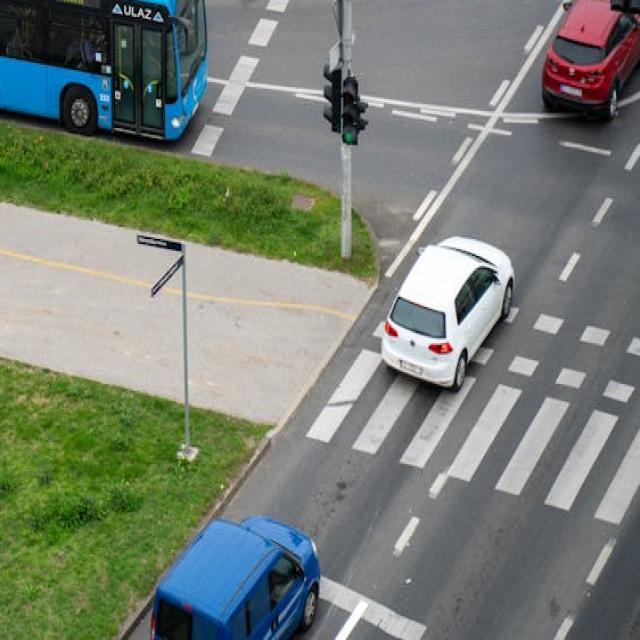bus: (0, 0, 210, 147)
car: (150, 513, 319, 640), (384, 235, 516, 392), (541, 0, 640, 125)
